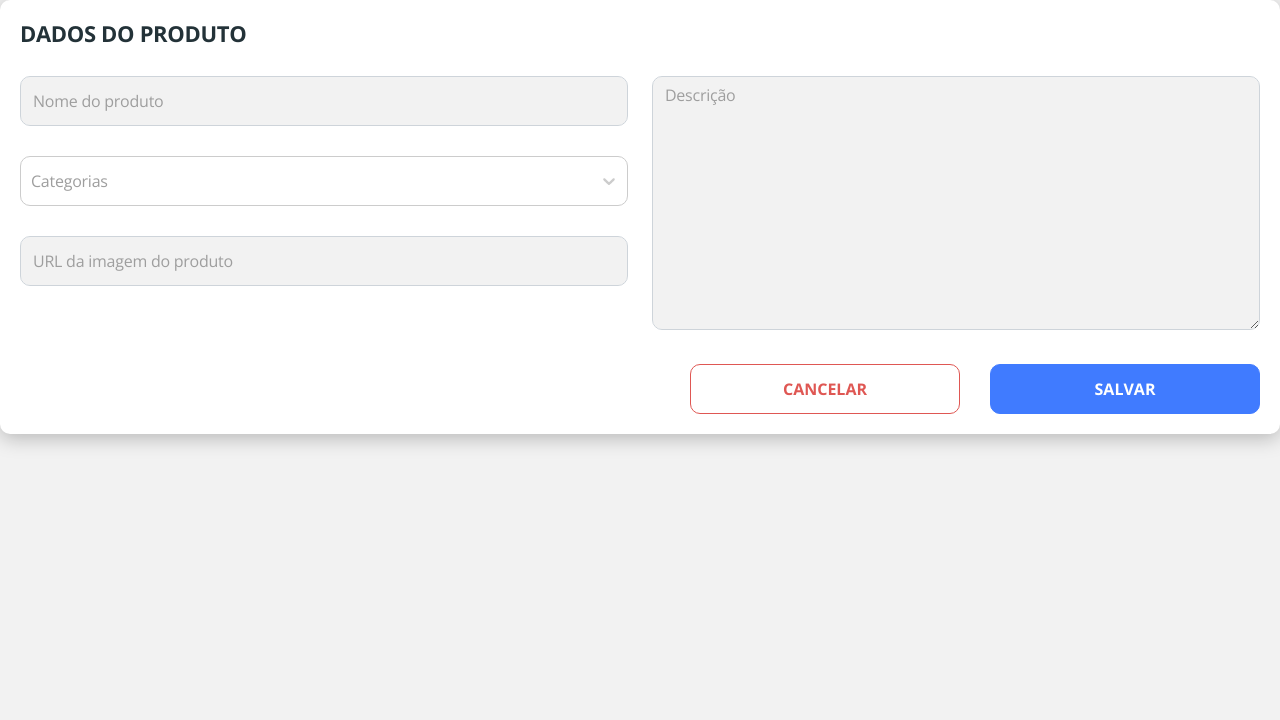
Test: Tests Form › should show 5 validation messages when just clicking submit
Click the button "SALVAR".
click(1125, 389)  # box [990,364,1260,414]
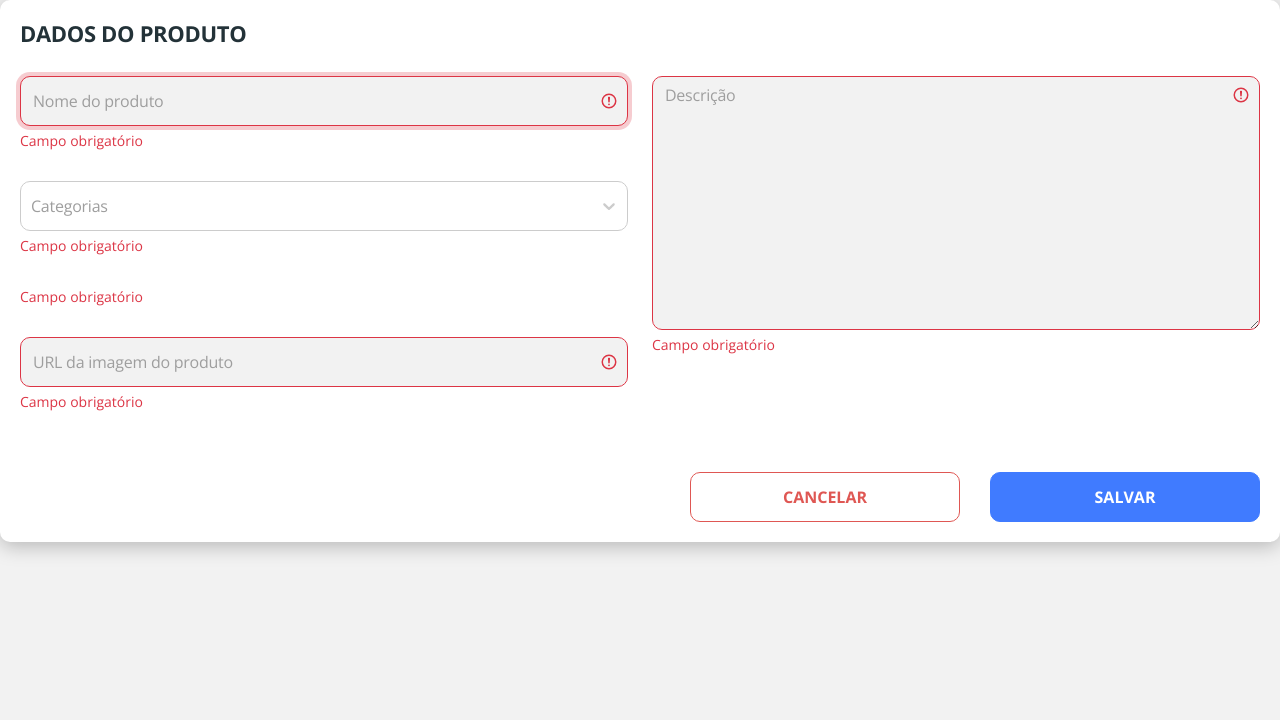
Result: the text "Campo obrigatório" is shown 5 times at [20,131,143,150]; [20,236,143,255]; [20,287,143,306]; [20,392,143,411]; [652,335,775,354]
